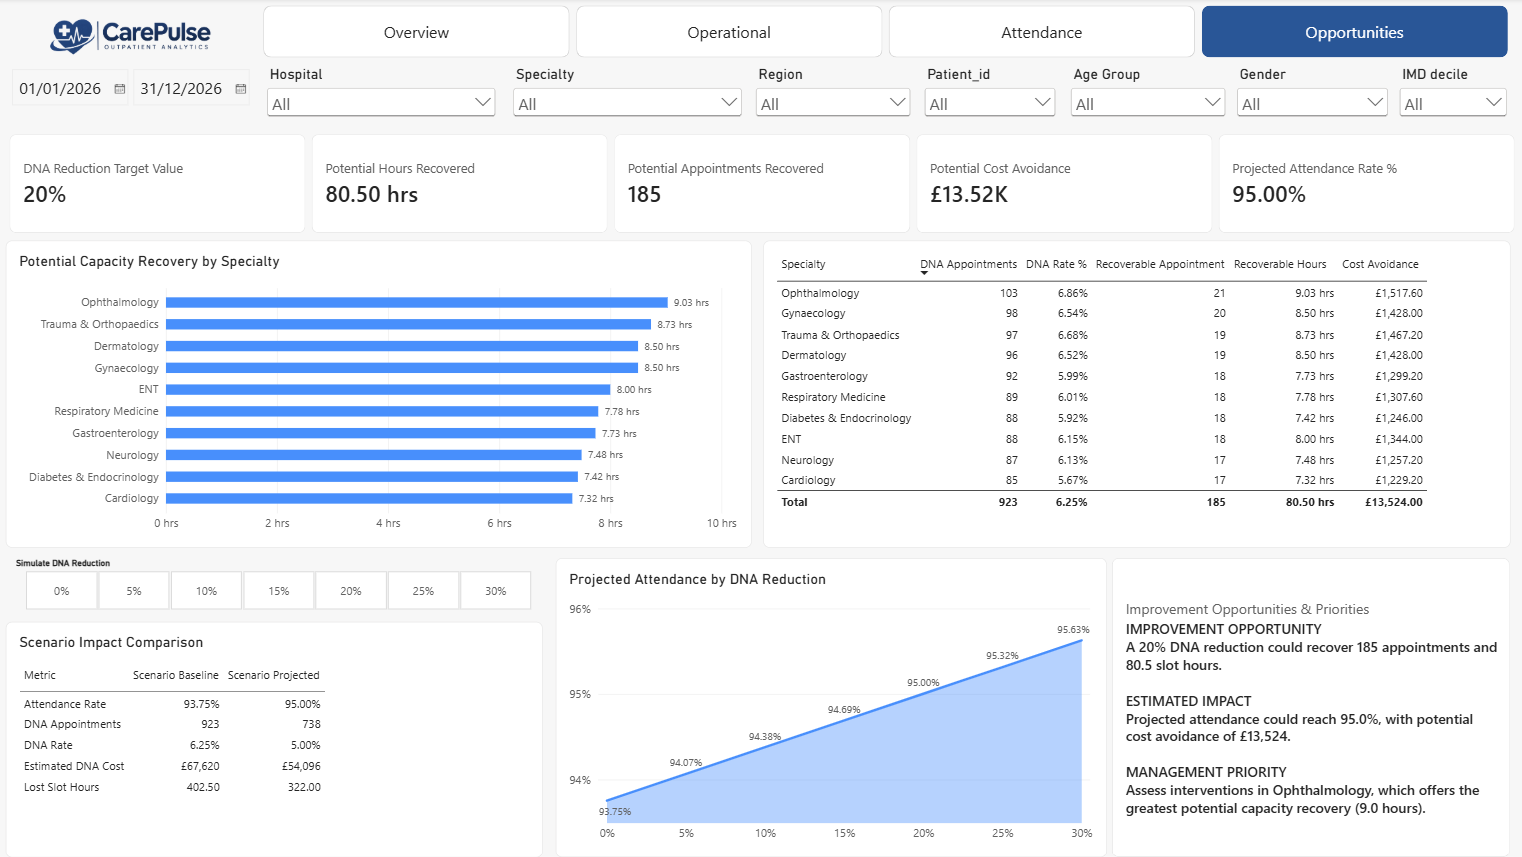

This screenshot's page, from the dashboard's own definition file:
{"tool":"powerbi","page":{"name":"Opportunities","canvas":[1920,1080],"ordinal":3},"visuals":[{"type":"pageNavigator","box":[338.3,9.4,1555.8,65.5],"z":0},{"type":"slicer","fields":{"Values":["calendar.Date"]},"box":[17.1,84.4,321.1,65.9],"z":1000},{"type":"slicer","fields":{"Values":["dim_hospitals.hospital_name"]},"box":[337.9,84.4,294.8,73.3],"z":2000},{"type":"slicer","fields":{"Values":["dim_specialties.specialty_name"]},"box":[645,84.4,294.8,73.3],"z":3000},{"type":"slicer","fields":{"Values":["dim_hospitals.region"]},"box":[947.5,84.4,202.7,73.3],"z":4000},{"type":"slicer","fields":{"Values":["dim_patients.Age Group"]},"box":[1340.3,84.4,202.7,73.3],"z":5000},{"type":"slicer","fields":{"Values":["dim_patients.gender"]},"box":[1547.6,84.4,198,71.7],"z":6000},{"type":"slicer","fields":{"Values":["dim_patients.imd_decile"]},"box":[1750.3,84.4,143.4,73.3],"z":7000},{"type":"slicer","fields":{"Values":["dim_patients.patient_id"]},"box":[1157.9,84.4,173,73.3],"z":8000},{"type":"cardVisual","fields":{"Data":["DNA Reduction Target.DNA Reduction Target Value","05 Improvement Measures.Potential Hours Recovered","05 Improvement Measures.Potential Appointments Recovered","05 Improvement Measures.Potential Cost Avoidance","05 Improvement Measures.Projected Attendance Rate %"]},"box":[21.2,169.8,1881.8,123.5],"z":9000},{"type":"clusteredBarChart","title":"Potential Capacity Recovery by Specialty","fields":{"Category":["dim_specialties.specialty_name"],"Y":["05 Improvement Measures.Potential Hours Recovered"]},"box":[17.1,302.4,930.7,383.5],"z":10000},{"type":"tableEx","fields":{"Values":["dim_specialties.specialty_name","01 Appointment Measures.DNA Appointments","01 Appointment Measures.DNA Rate %","05 Improvement Measures.Potential Appointments Recovered","05 Improvement Measures.Potential Hours Recovered","05 Improvement Measures.Potential Cost Avoidance"]},"box":[961.8,302.4,932.2,383.5],"z":11000},{"type":"tableEx","title":"Scenario Impact Comparison","fields":{"Values":["Scenario Comparison.Metric","Scenario Comparison.Scenario Baseline","Scenario Comparison.Scenario Projected"]},"box":[17.4,777.8,669.7,295.3],"z":12000},{"type":"areaChart","title":"\tProjected Attendance by DNA Reduction","fields":{"Category":["DNA Reduction Target.DNA Reduction Target"],"Y":["05 Improvement Measures.Projected Attendance Rate %"]},"box":[702.5,698.7,687.1,374.4],"z":13000},{"type":"cardVisual","fields":{"Data":["06_Dynamic_Insights.Opportunities Executive Insight"]},"box":[1397.4,698.7,496,374.4],"z":14000},{"type":"slicer","fields":{"Values":["DNA Reduction Target.DNA Reduction Target"]},"box":[21.2,698.7,669.7,65.6],"z":15000},{"type":"image","box":[21.8,9.4,299.3,74.8],"z":15001}]}

Visuals, with their boxes in screenshot pixels (x1, y1, x2, y2), scaled from the page's 1920x1080 canvas onto the 1522x857 screenshot:
pageNavigator: <region>268, 7, 1501, 59</region>
slicer - calendar.Date: <region>14, 67, 268, 119</region>
slicer - dim_hospitals.hospital_name: <region>268, 67, 502, 125</region>
slicer - dim_specialties.specialty_name: <region>511, 67, 745, 125</region>
slicer - dim_hospitals.region: <region>751, 67, 912, 125</region>
slicer - dim_patients.Age Group: <region>1062, 67, 1223, 125</region>
slicer - dim_patients.gender: <region>1227, 67, 1384, 124</region>
slicer - dim_patients.imd_decile: <region>1387, 67, 1501, 125</region>
slicer - dim_patients.patient_id: <region>918, 67, 1055, 125</region>
cardVisual - DNA Reduction Target.DNA Reduction Target Value x 05 Improvement Measures.Potential Hours Recovered: <region>17, 135, 1509, 233</region>
"Potential Capacity Recovery by Specialty" clusteredBarChart: <region>14, 240, 751, 544</region>
tableEx - dim_specialties.specialty_name x 01 Appointment Measures.DNA Appointments: <region>762, 240, 1501, 544</region>
"Scenario Impact Comparison" tableEx: <region>14, 617, 545, 852</region>
"	Projected Attendance by DNA Reduction" areaChart: <region>557, 554, 1102, 852</region>
cardVisual - 06_Dynamic_Insights.Opportunities Executive Insight: <region>1108, 554, 1501, 852</region>
slicer - DNA Reduction Target.DNA Reduction Target: <region>17, 554, 548, 606</region>
image: <region>17, 7, 255, 67</region>
